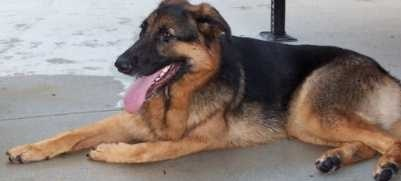dog: (71, 0, 401, 181)
